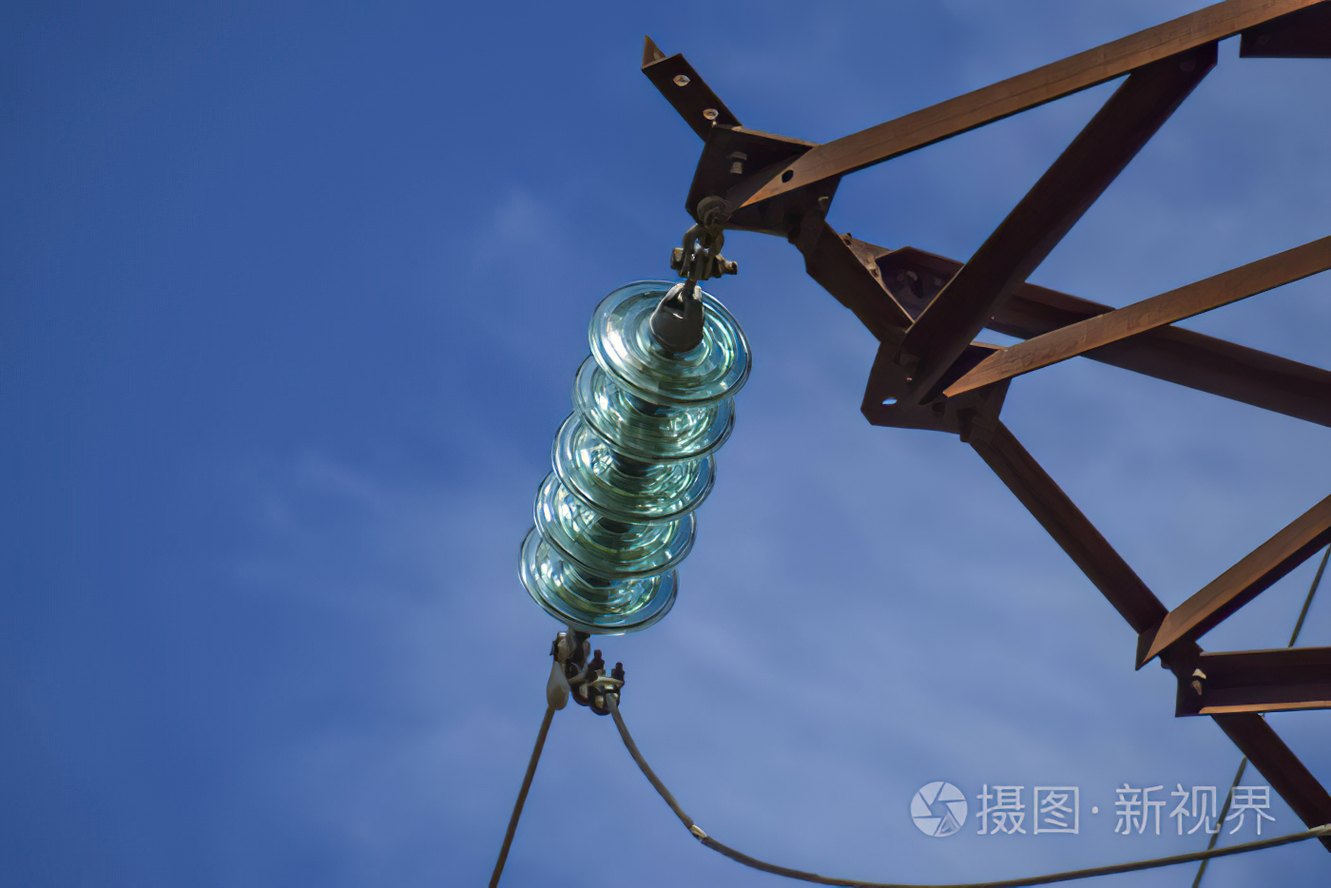insulator: (519, 284, 744, 637)
